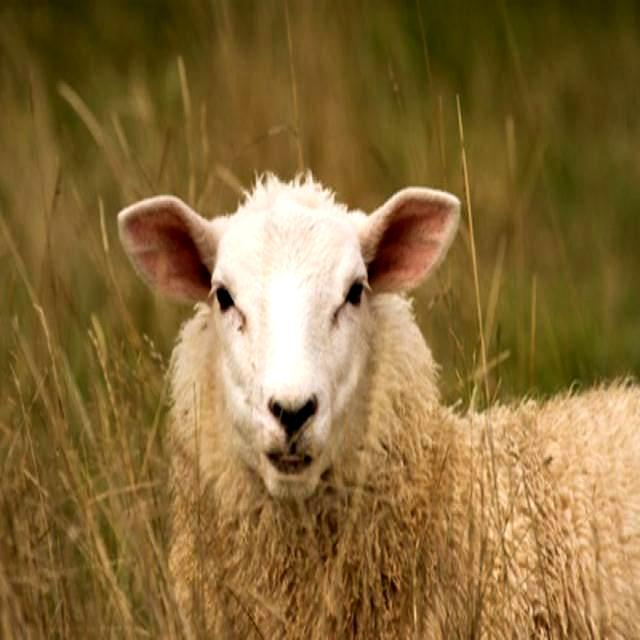sheep: (115, 175, 639, 638)
